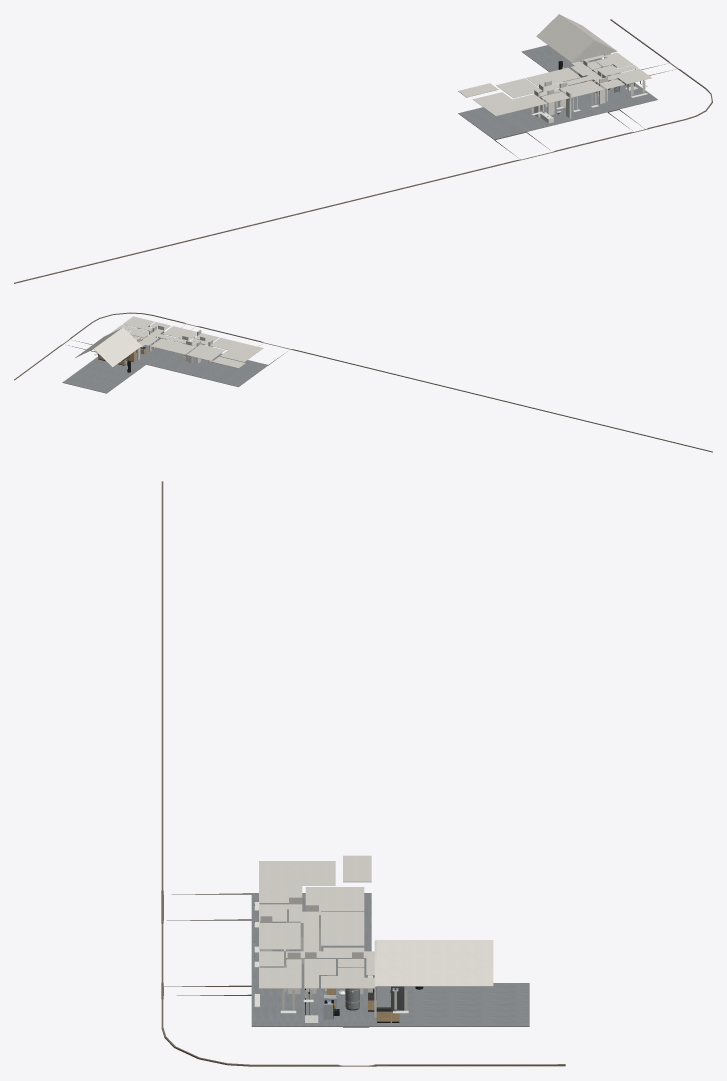
The model's file is dom-interior-01.glb.
3 renders of one model, top to bottom at view 1: azimuth 30°, elevation 25°; view 2: azimuth 150°, elevation 25°; view 3: azimuth 270°, elevation 25°, orthographic. The views are drawn at different scales.
Parts seen in each view (by area): view 1: DOM_00403 | Podkladová doska 1.NP 1, DOM_00433 | 1.03 · šikmý SDK podhľad západ · +2,750 → +4,850, DOM_00048 | Obrubník pri čelnej vozovke · prerušený pre gará, DOM_00404 | Podkladová doska 1.NP 2, DOM_00463 | 1.12 Garáž · SDK podhľad +2.600, DOM_00457 | 1.09 Detská izba 1 · SDK podhľad +2.600, DOM_00459 | 1.10 Detská izba 2 · SDK podhľad +2.600; view 2: DOM_00403 | Podkladová doska 1.NP 1, DOM_00404 | Podkladová doska 1.NP 2, DOM_00433 | 1.03 · šikmý SDK podhľad západ · +2,750 → +4,850, DOM_00048 | Obrubník pri čelnej vozovke · prerušený pre gará, DOM_00463 | 1.12 Garáž · SDK podhľad +2.600, DOM_00457 | 1.09 Detská izba 1 · SDK podhľad +2.600, DOM_00459 | 1.10 Detská izba 2 · SDK podhľad +2.600, DOM_00455 | 1.08 Spálňa · SDK podhľad +2.600; view 3: DOM_00404 | Podkladová doska 1.NP 2, DOM_00434 | 1.03 · šikmý SDK podhľad východ · +2,750 → +4,85, DOM_00403 | Podkladová doska 1.NP 1, DOM_00463 | 1.12 Garáž · SDK podhľad +2.600, DOM_00457 | 1.09 Detská izba 1 · SDK podhľad +2.600, DOM_00048 | Obrubník pri čelnej vozovke · prerušený pre gará, DOM_00459 | 1.10 Detská izba 2 · SDK podhľad +2.600, DOM_00455 | 1.08 Spálňa · SDK podhľad +2.600, DOM_00051 | Obrubník rohovej vetvy · prerušený pri bočnej br.
Boxes of the visible parts, x1=… form: DOM_00403 | Podkladová doska 1.NP 1: x1=458, y1=79, x2=657, y2=139; DOM_00433 | 1.03 · šikmý SDK podhľad západ · +2,750 → +4,850: x1=536, y1=14, x2=593, y2=61; DOM_00048 | Obrubník pri čelnej vozovke · prerušený pre gará: x1=14, y1=119, x2=686, y2=283; DOM_00404 | Podkladová doska 1.NP 2: x1=521, y1=45, x2=616, y2=85; DOM_00463 | 1.12 Garáž · SDK podhľad +2.600: x1=483, y1=94, x2=546, y2=116; DOM_00457 | 1.09 Detská izba 1 · SDK podhľad +2.600: x1=526, y1=67, x2=580, y2=86; DOM_00459 | 1.10 Detská izba 2 · SDK podhľad +2.600: x1=496, y1=78, x2=542, y2=98; DOM_00403 | Podkladová doska 1.NP 1: x1=135, y1=335, x2=268, y2=386; DOM_00404 | Podkladová doska 1.NP 2: x1=62, y1=357, x2=145, y2=393; DOM_00433 | 1.03 · šikmý SDK podhľad západ · +2,750 → +4,850: x1=94, y1=328, x2=141, y2=367; DOM_00048 | Obrubník pri čelnej vozovke · prerušený pre gará: x1=153, y1=315, x2=712, y2=452; DOM_00463 | 1.12 Garáž · SDK podhľad +2.600: x1=210, y1=337, x2=263, y2=355; DOM_00457 | 1.09 Detská izba 1 · SDK podhľad +2.600: x1=151, y1=338, x2=195, y2=354; DOM_00459 | 1.10 Detská izba 2 · SDK podhľad +2.600: x1=186, y1=344, x2=224, y2=360; DOM_00455 | 1.08 Spálňa · SDK podhľad +2.600: x1=163, y1=326, x2=196, y2=340; DOM_00404 | Podkladová doska 1.NP 2: x1=371, y1=983, x2=529, y2=1026; DOM_00434 | 1.03 · šikmý SDK podhľad východ · +2,750 → +4,85: x1=376, y1=940, x2=493, y2=986; DOM_00403 | Podkladová doska 1.NP 1: x1=251, y1=893, x2=371, y2=1026; DOM_00463 | 1.12 Garáž · SDK podhľad +2.600: x1=259, y1=861, x2=302, y2=903; DOM_00457 | 1.09 Detská izba 1 · SDK podhľad +2.600: x1=321, y1=911, x2=364, y2=945; DOM_00048 | Obrubník pri čelnej vozovke · prerušený pre gará: x1=161, y1=481, x2=163, y2=1027; DOM_00459 | 1.10 Detská izba 2 · SDK podhľad +2.600: x1=305, y1=887, x2=364, y2=911; DOM_00455 | 1.08 Spálňa · SDK podhľad +2.600: x1=259, y1=923, x2=300, y2=949; DOM_00051 | Obrubník rohovej vetvy · prerušený pri bočnej br: x1=161, y1=1027, x2=565, y2=1066.
Size of the model in its own units: 94.62 by 5.01 by 27.69.
Materials: 30 (10 with a texture image).
